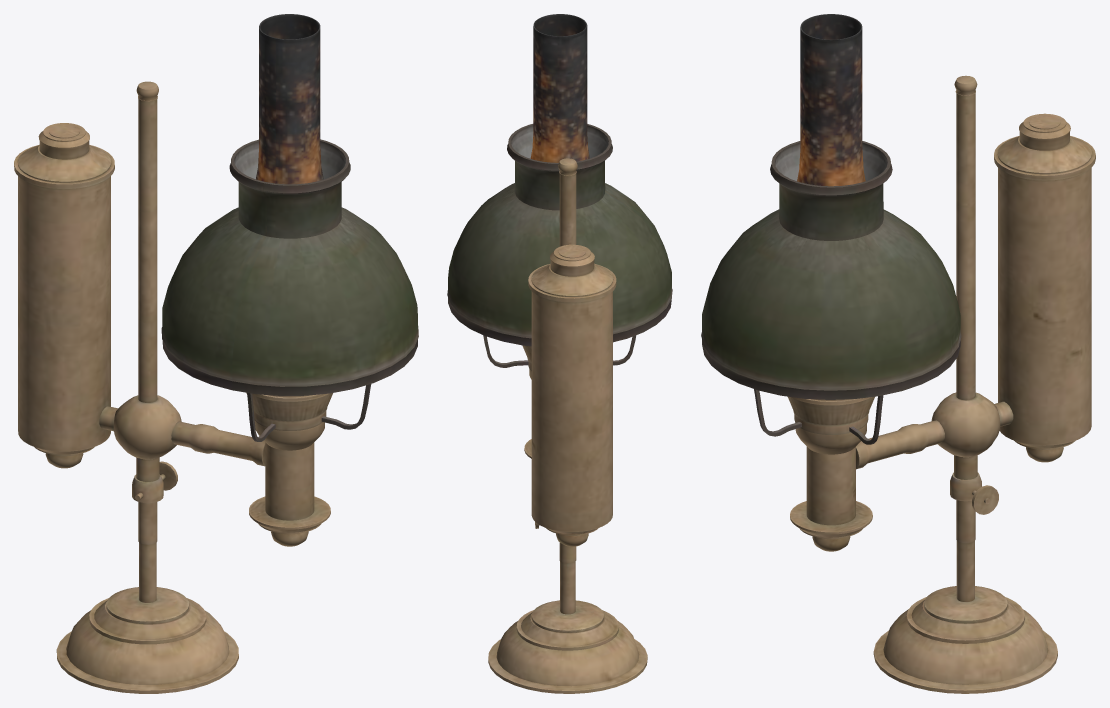
The model's file is lamp-oil-table-large.glb.
3 renders of one model, left to right at view 1: azimuth 30°, elevation 25°; view 2: azimuth 150°, elevation 25°; view 3: azimuth 270°, elevation 25°, orthographic. The views are drawn at different scales.
Parts seen in each view (by area): view 1: lamp-oil-table-large; view 2: lamp-oil-table-large; view 3: lamp-oil-table-large.
Part boxes in pixels (x1,y1,x2,y2): lamp-oil-table-large: (14,14,418,693); lamp-oil-table-large: (447,14,672,693); lamp-oil-table-large: (701,14,1095,693).
Bounding box in the file's own units: 0.2375 × 0.5429 × 0.292.
1 material, 1 textured.
